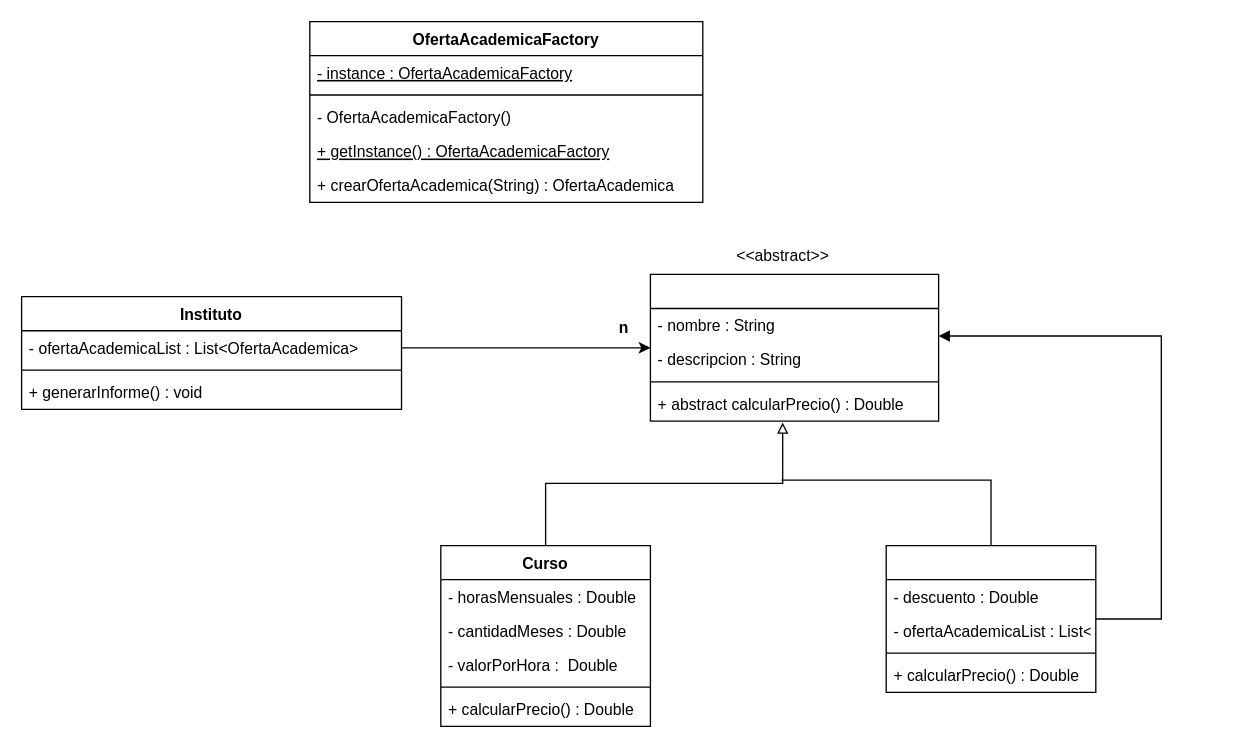
Some shapes in this 1245 by 748 pixel diagram are drawn without their labels. The box of each missing label's shape, as (x1, y1, x2, y2) in pixels:
OfertaAcademica: (649, 273, 939, 421)
ProgramaIntensivo: (885, 544, 1096, 692)
